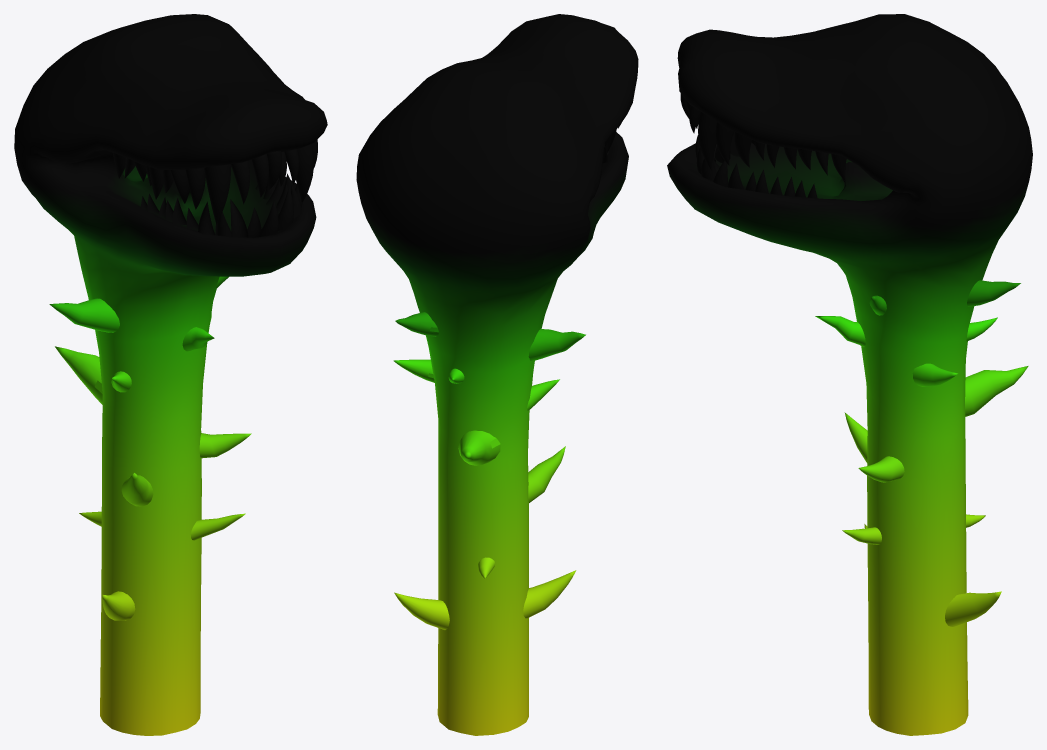
The model's file is SM_Enemy_Ready.fbx.
The picture shows the model from 3 angles, left to right: view 1: azimuth 30°, elevation 25°; view 2: azimuth 150°, elevation 25°; view 3: azimuth 270°, elevation 25°; orthographic projection. The views are drawn at different scales.
Parts seen in each view (by area): view 1: material1; view 2: material1; view 3: material1.
Boxes of the visible parts, x1,y1,x2,y2 form: material1: (14, 14, 327, 735); material1: (356, 14, 638, 735); material1: (667, 14, 1032, 735).
Bounding box in the file's own units: 51.52 × 139 × 67.08.
